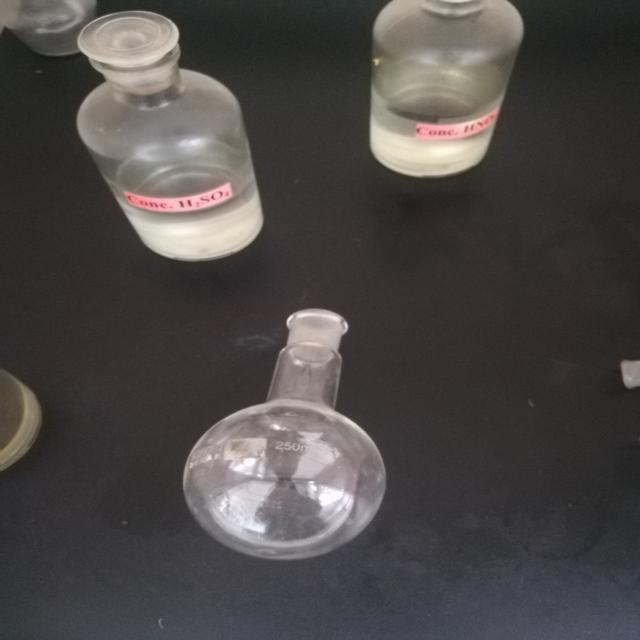Round_Bottom_Flask_Borosilicate_Glass_1_Neck: (151, 289, 444, 594)
